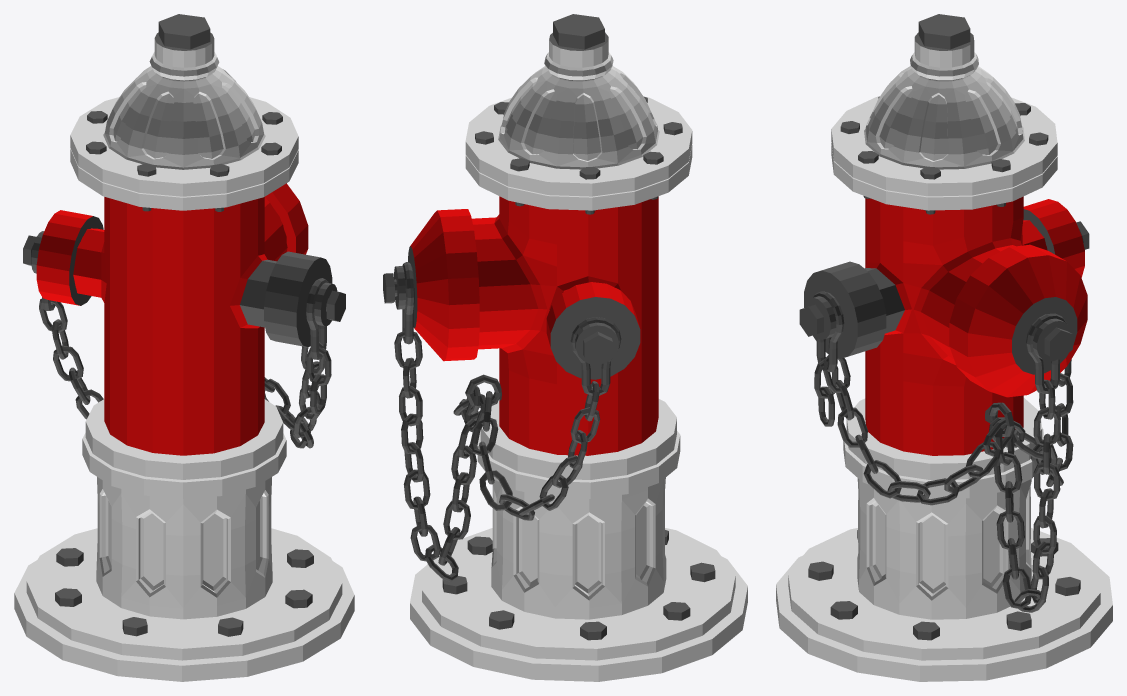
File: white_red_chain.fbx
The picture shows the model from 3 angles, left to right: view 1: azimuth 30°, elevation 25°; view 2: azimuth 150°, elevation 25°; view 3: azimuth 270°, elevation 25°; orthographic projection.
Visible parts, largest first — view 1: firehydrant:hidrant_02_Mesh; view 2: firehydrant:hidrant_02_Mesh; view 3: firehydrant:hidrant_02_Mesh.
Boxes of the visible parts, x1,y1,x2,y2 form: firehydrant:hidrant_02_Mesh: (14,14,354,681); firehydrant:hidrant_02_Mesh: (383,14,747,681); firehydrant:hidrant_02_Mesh: (776,14,1112,681).
Bounding box in the file's own units: 33.11 × 63.48 × 33.11.
